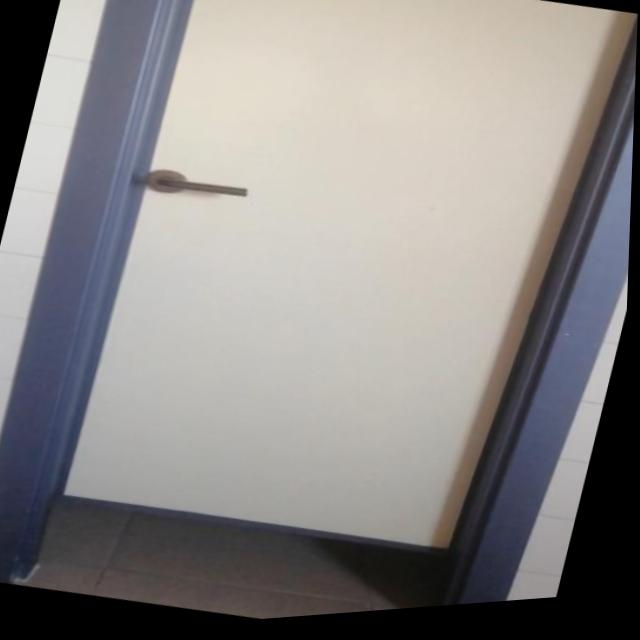door_handle: (151, 170, 259, 212)
